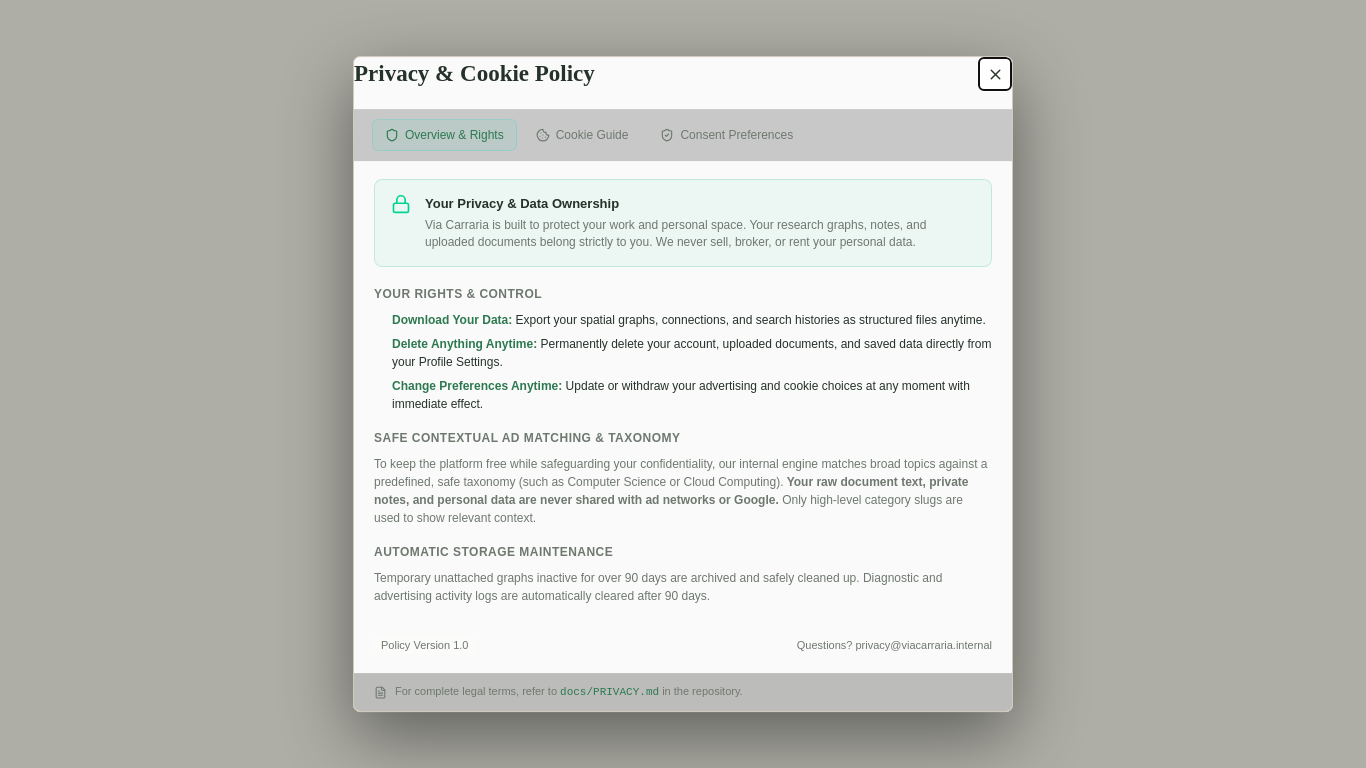
it: PrivacyPolicyDialog › switches to preferences tab and allows updating consent to contextual only
Click the tab with test id "privacy-tab-preferences" at (727, 135), box [647,119,806,151]
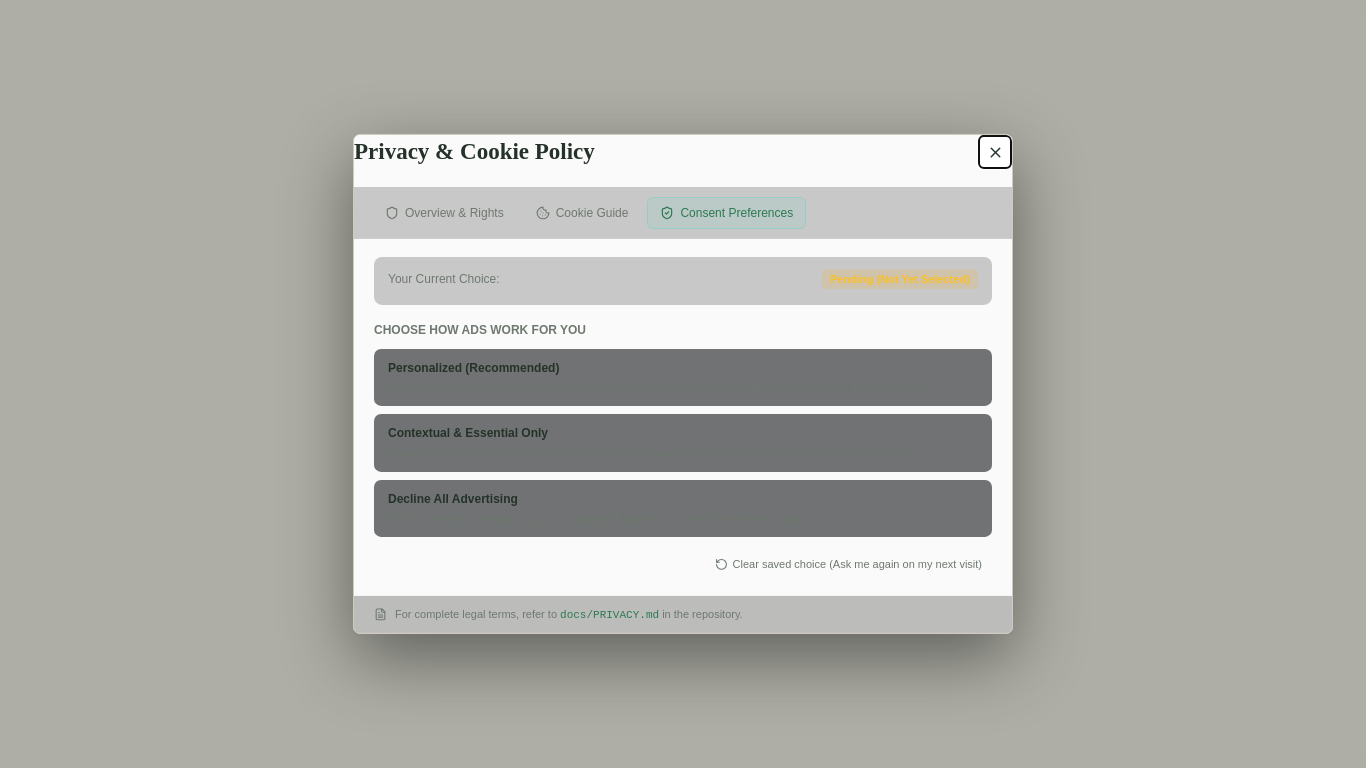
Check: the text with test id "current-consent-status" shows "Pending", box [830,272,970,284]
Click the button with test id "pref-opt-essential" at (468, 433), box [374,414,992,472]
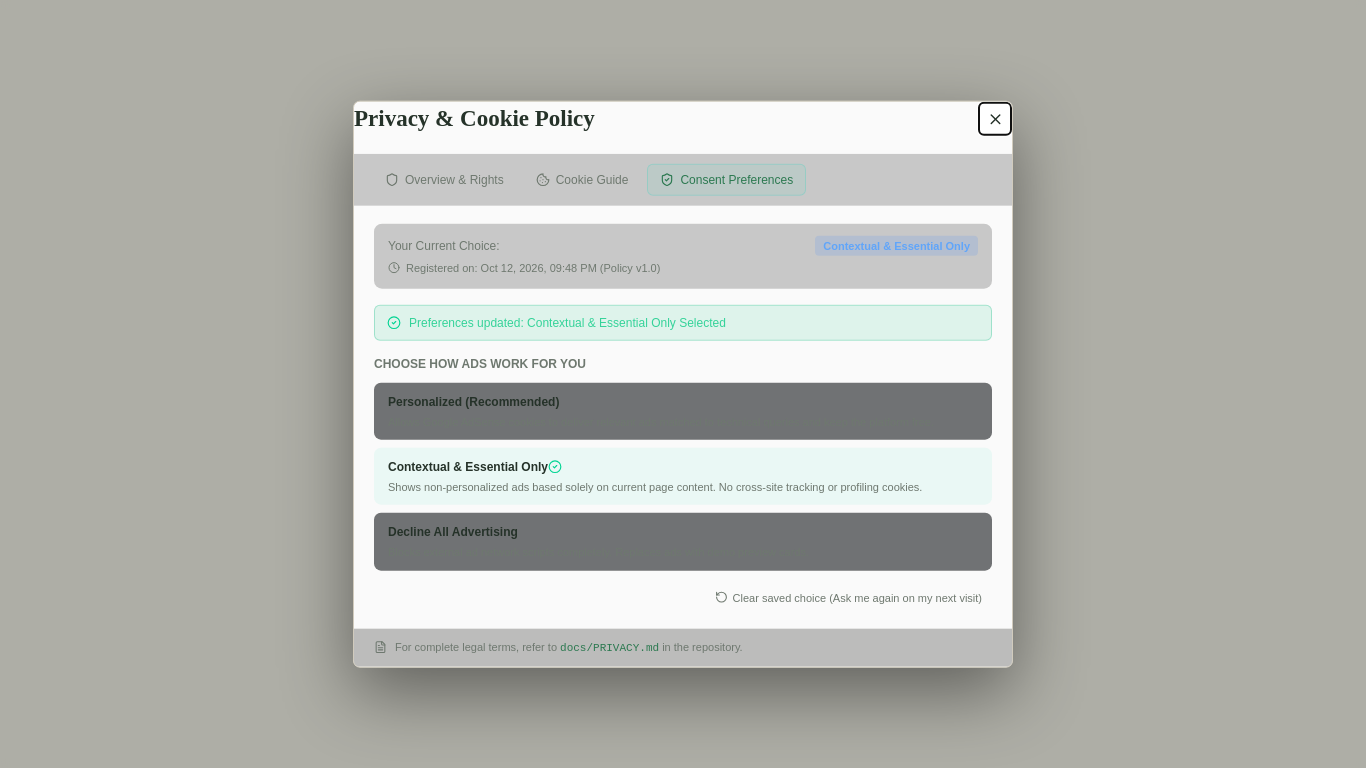
Check: the text with test id "current-consent-status" reads "Contextual & Essential Only", box [823,239,970,251]
Check: the text "Preferences updated: Contextual & Essential Only Selected" is shown, box [409,313,726,331]
